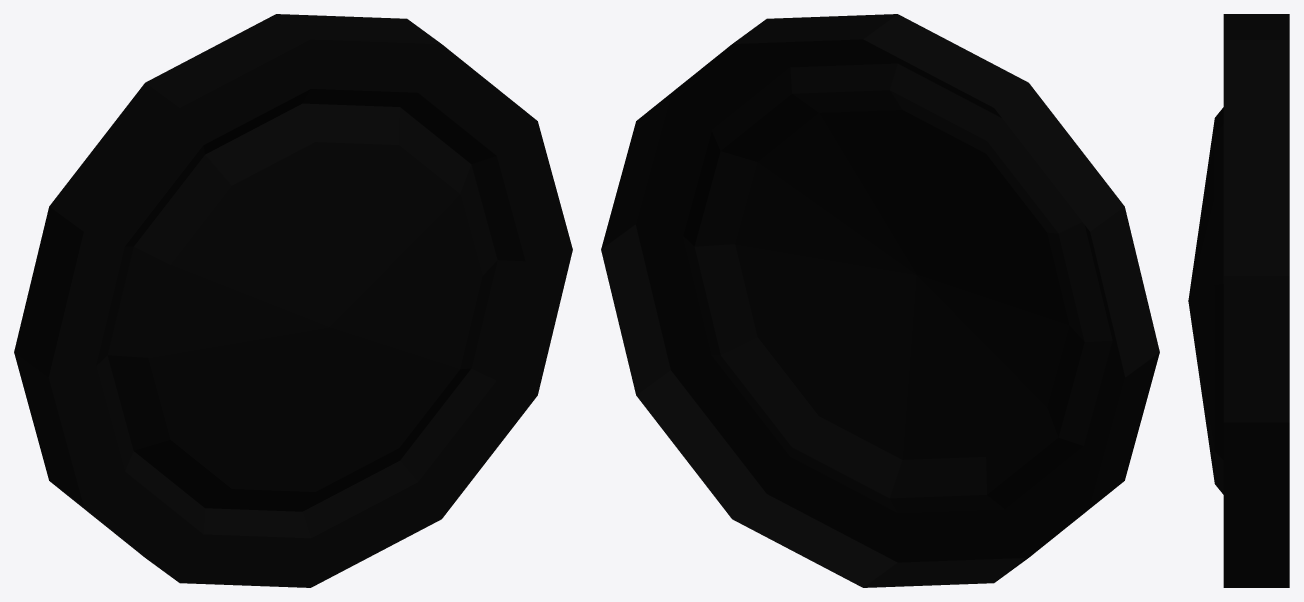
The model's file is SM_PRP_Button.fbx.
3 views of the same model, side by side, from view 1: azimuth 30°, elevation 25°; view 2: azimuth 150°, elevation 25°; view 3: azimuth 270°, elevation 25° (orthographic). The views are drawn at different scales.
Visible parts, largest first — view 1: PRP_Button; view 2: PRP_Button; view 3: PRP_Button.
Boxes of the visible parts, x1,y1,x2,y2 form: PRP_Button: [14, 14, 572, 587]; PRP_Button: [601, 14, 1159, 587]; PRP_Button: [1188, 14, 1289, 587].
Size of the model in its own units: 6.08 by 6.08 by 1.07.
